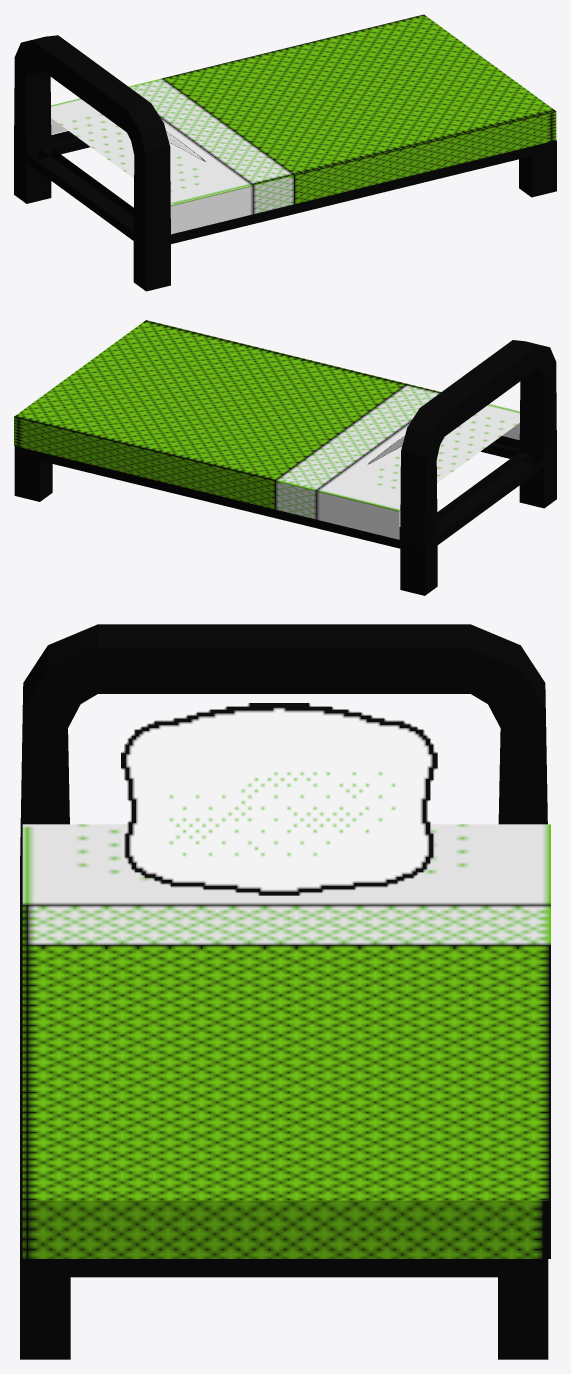
Rendered from bed.fbx.
3 views of the same model, one above another, from view 1: azimuth 30°, elevation 25°; view 2: azimuth 150°, elevation 25°; view 3: azimuth 270°, elevation 25° (orthographic). The views are drawn at different scales.
Parts seen in each view (by area): view 1: bed, bedframe; view 2: bed, bedframe; view 3: bed, bedframe, pillow.
Part boxes in pixels (left/top/right/bottom): bed: left=51, top=14, right=556, bottom=234; bedframe: left=14, top=35, right=556, bottom=291; bed: left=14, top=320, right=519, bottom=539; bedframe: left=14, top=340, right=556, bottom=595; bed: left=22, top=824, right=550, bottom=1258; bedframe: left=20, top=624, right=548, bottom=1359; pillow: left=121, top=703, right=437, bottom=895.
Bounding box in the file's own units: 220 × 85.77 × 123.
3 materials, 2 textured.
